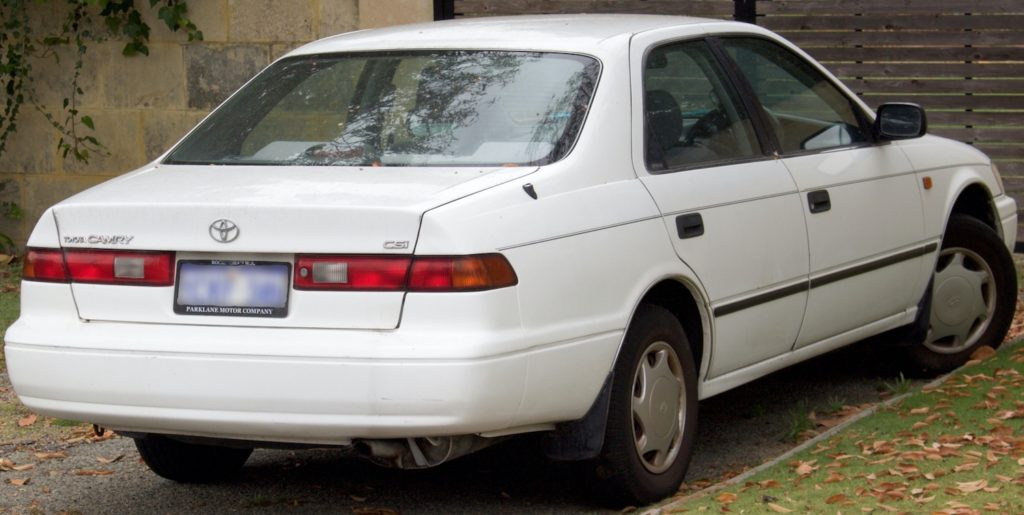car: (13, 7, 1023, 513)
